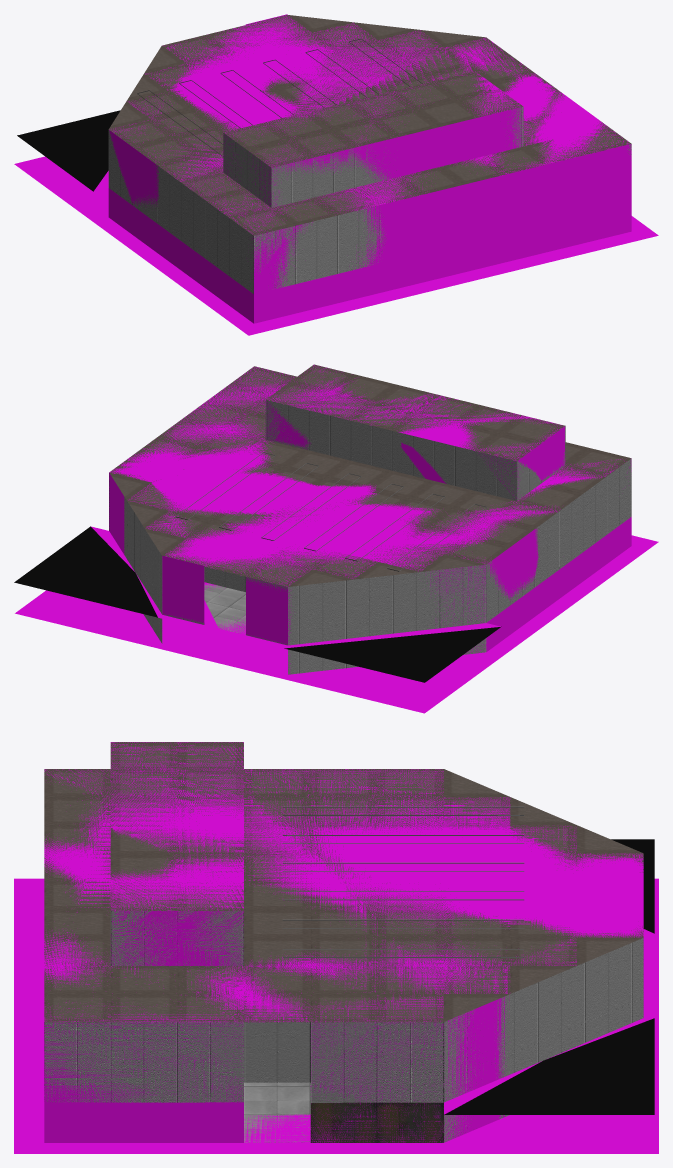
The model's file is mint_obstacle_room.fbx.
The picture shows the model from 3 angles, top to bottom: view 1: azimuth 30°, elevation 25°; view 2: azimuth 150°, elevation 25°; view 3: azimuth 270°, elevation 25°; orthographic projection. The views are drawn at different scales.
Parts seen in each view (by area): view 1: ceiling (×2), walls1, TopCeiling (×2), walls, floor22, floor23; view 2: ceiling (×2), TopCeiling (×2), walls, floor22, floor23, walls1, walls2, floor2; view 3: ceiling (×2), walls, TopCeiling (×2), walls1, floor22, floor23, floor, LongLights:Lights1, LongLights:Lights2, LongLights:Lights6, Lights1.
Boxes of the visible parts, x1,y1,x2,y2 form: ceiling (×2): [108, 15, 631, 235]; walls1: [108, 130, 631, 323]; TopCeiling (×2): [223, 71, 523, 207]; walls: [108, 130, 631, 293]; floor22: [14, 156, 658, 335]; floor23: [17, 110, 120, 191]; ceiling (×2): [109, 366, 631, 586]; TopCeiling (×2): [265, 364, 565, 500]; walls: [109, 458, 631, 674]; floor22: [15, 535, 658, 713]; floor23: [14, 526, 501, 682]; walls1: [109, 459, 631, 673]; walls2: [162, 555, 204, 623]; floor2: [204, 583, 245, 634]; ceiling (×2): [44, 769, 643, 1022]; walls: [44, 938, 643, 1142]; TopCeiling (×2): [110, 742, 243, 965]; walls1: [44, 996, 509, 1142]; floor22: [14, 878, 658, 1153]; floor23: [444, 839, 654, 1114]; floor: [244, 1082, 310, 1142]; LongLights:Lights1: [282, 891, 524, 900]; LongLights:Lights2: [282, 862, 524, 871]; LongLights:Lights6: [282, 806, 524, 815]; Lights1: [282, 919, 524, 928].
Bounding box in the file's own units: 147 × 43.64 × 145.
